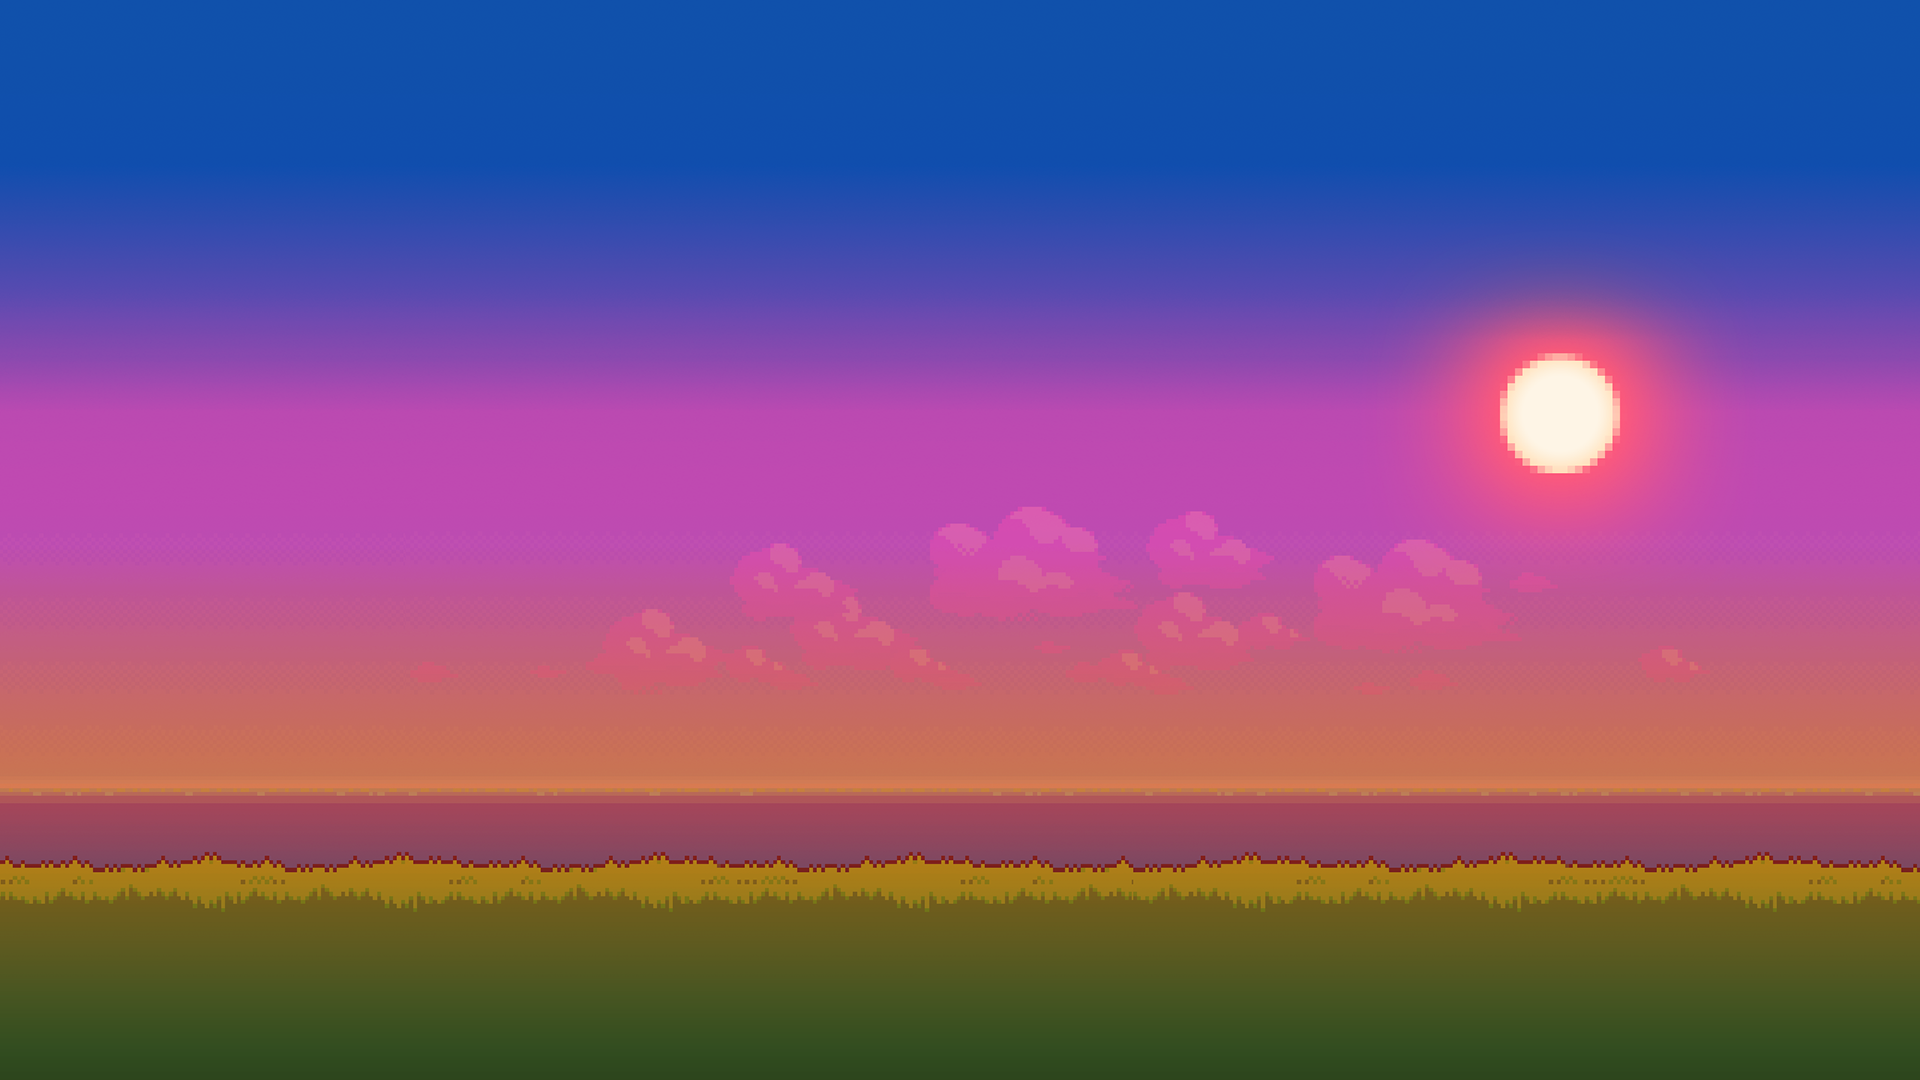beemonster: (206, 225, 237, 261), (1622, 284, 1654, 319), (800, 468, 831, 504), (676, 224, 707, 260)
character: (137, 616, 206, 686)
door: (1522, 363, 1619, 473)
flymonster: (1124, 546, 1168, 589), (738, 651, 785, 694)
ground: (3, 781, 351, 866), (545, 781, 855, 870), (1630, 781, 1908, 862)
ground_empty: (7, 870, 1913, 1079)
ground_grass: (877, 328, 1478, 385), (222, 535, 720, 579), (1212, 585, 1716, 622), (1617, 455, 1920, 492), (396, 274, 625, 310), (890, 688, 1058, 711)
health_buff: (1282, 473, 1320, 498), (811, 556, 837, 583)
littlemonster: (1669, 522, 1704, 558), (823, 736, 855, 771), (688, 736, 719, 771)
monster: (1415, 514, 1460, 554), (1000, 245, 1035, 291), (624, 392, 659, 438), (1750, 698, 1785, 744), (1809, 709, 1844, 756)
smallmonster: (393, 479, 425, 516), (469, 483, 501, 518), (1352, 258, 1382, 295), (1205, 258, 1236, 294), (465, 218, 496, 253)
wallmonster: (556, 727, 587, 761)
wallonster: (680, 479, 712, 516)
window: (1, 187, 564, 1077)
